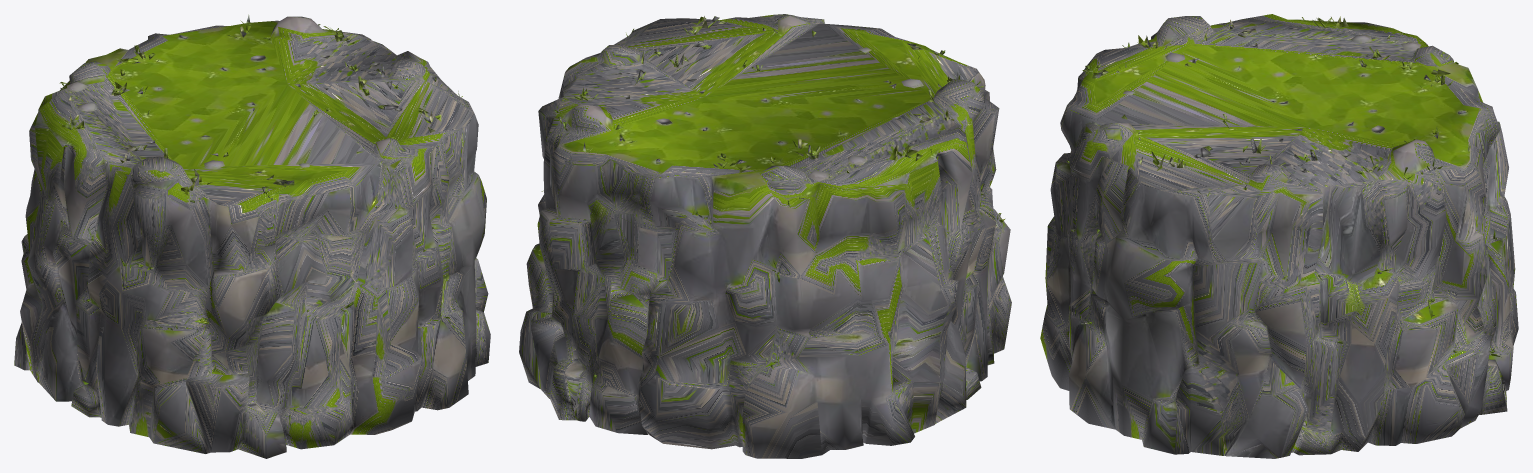
The model's file is rock_plateau.glb.
3 renders of one model, left to right at view 1: azimuth 30°, elevation 25°; view 2: azimuth 150°, elevation 25°; view 3: azimuth 270°, elevation 25°, orthographic. The views are drawn at different scales.
Bounding box in the file's own units: 0.9463 × 0.6118 × 0.957.
1 material, 1 textured.
